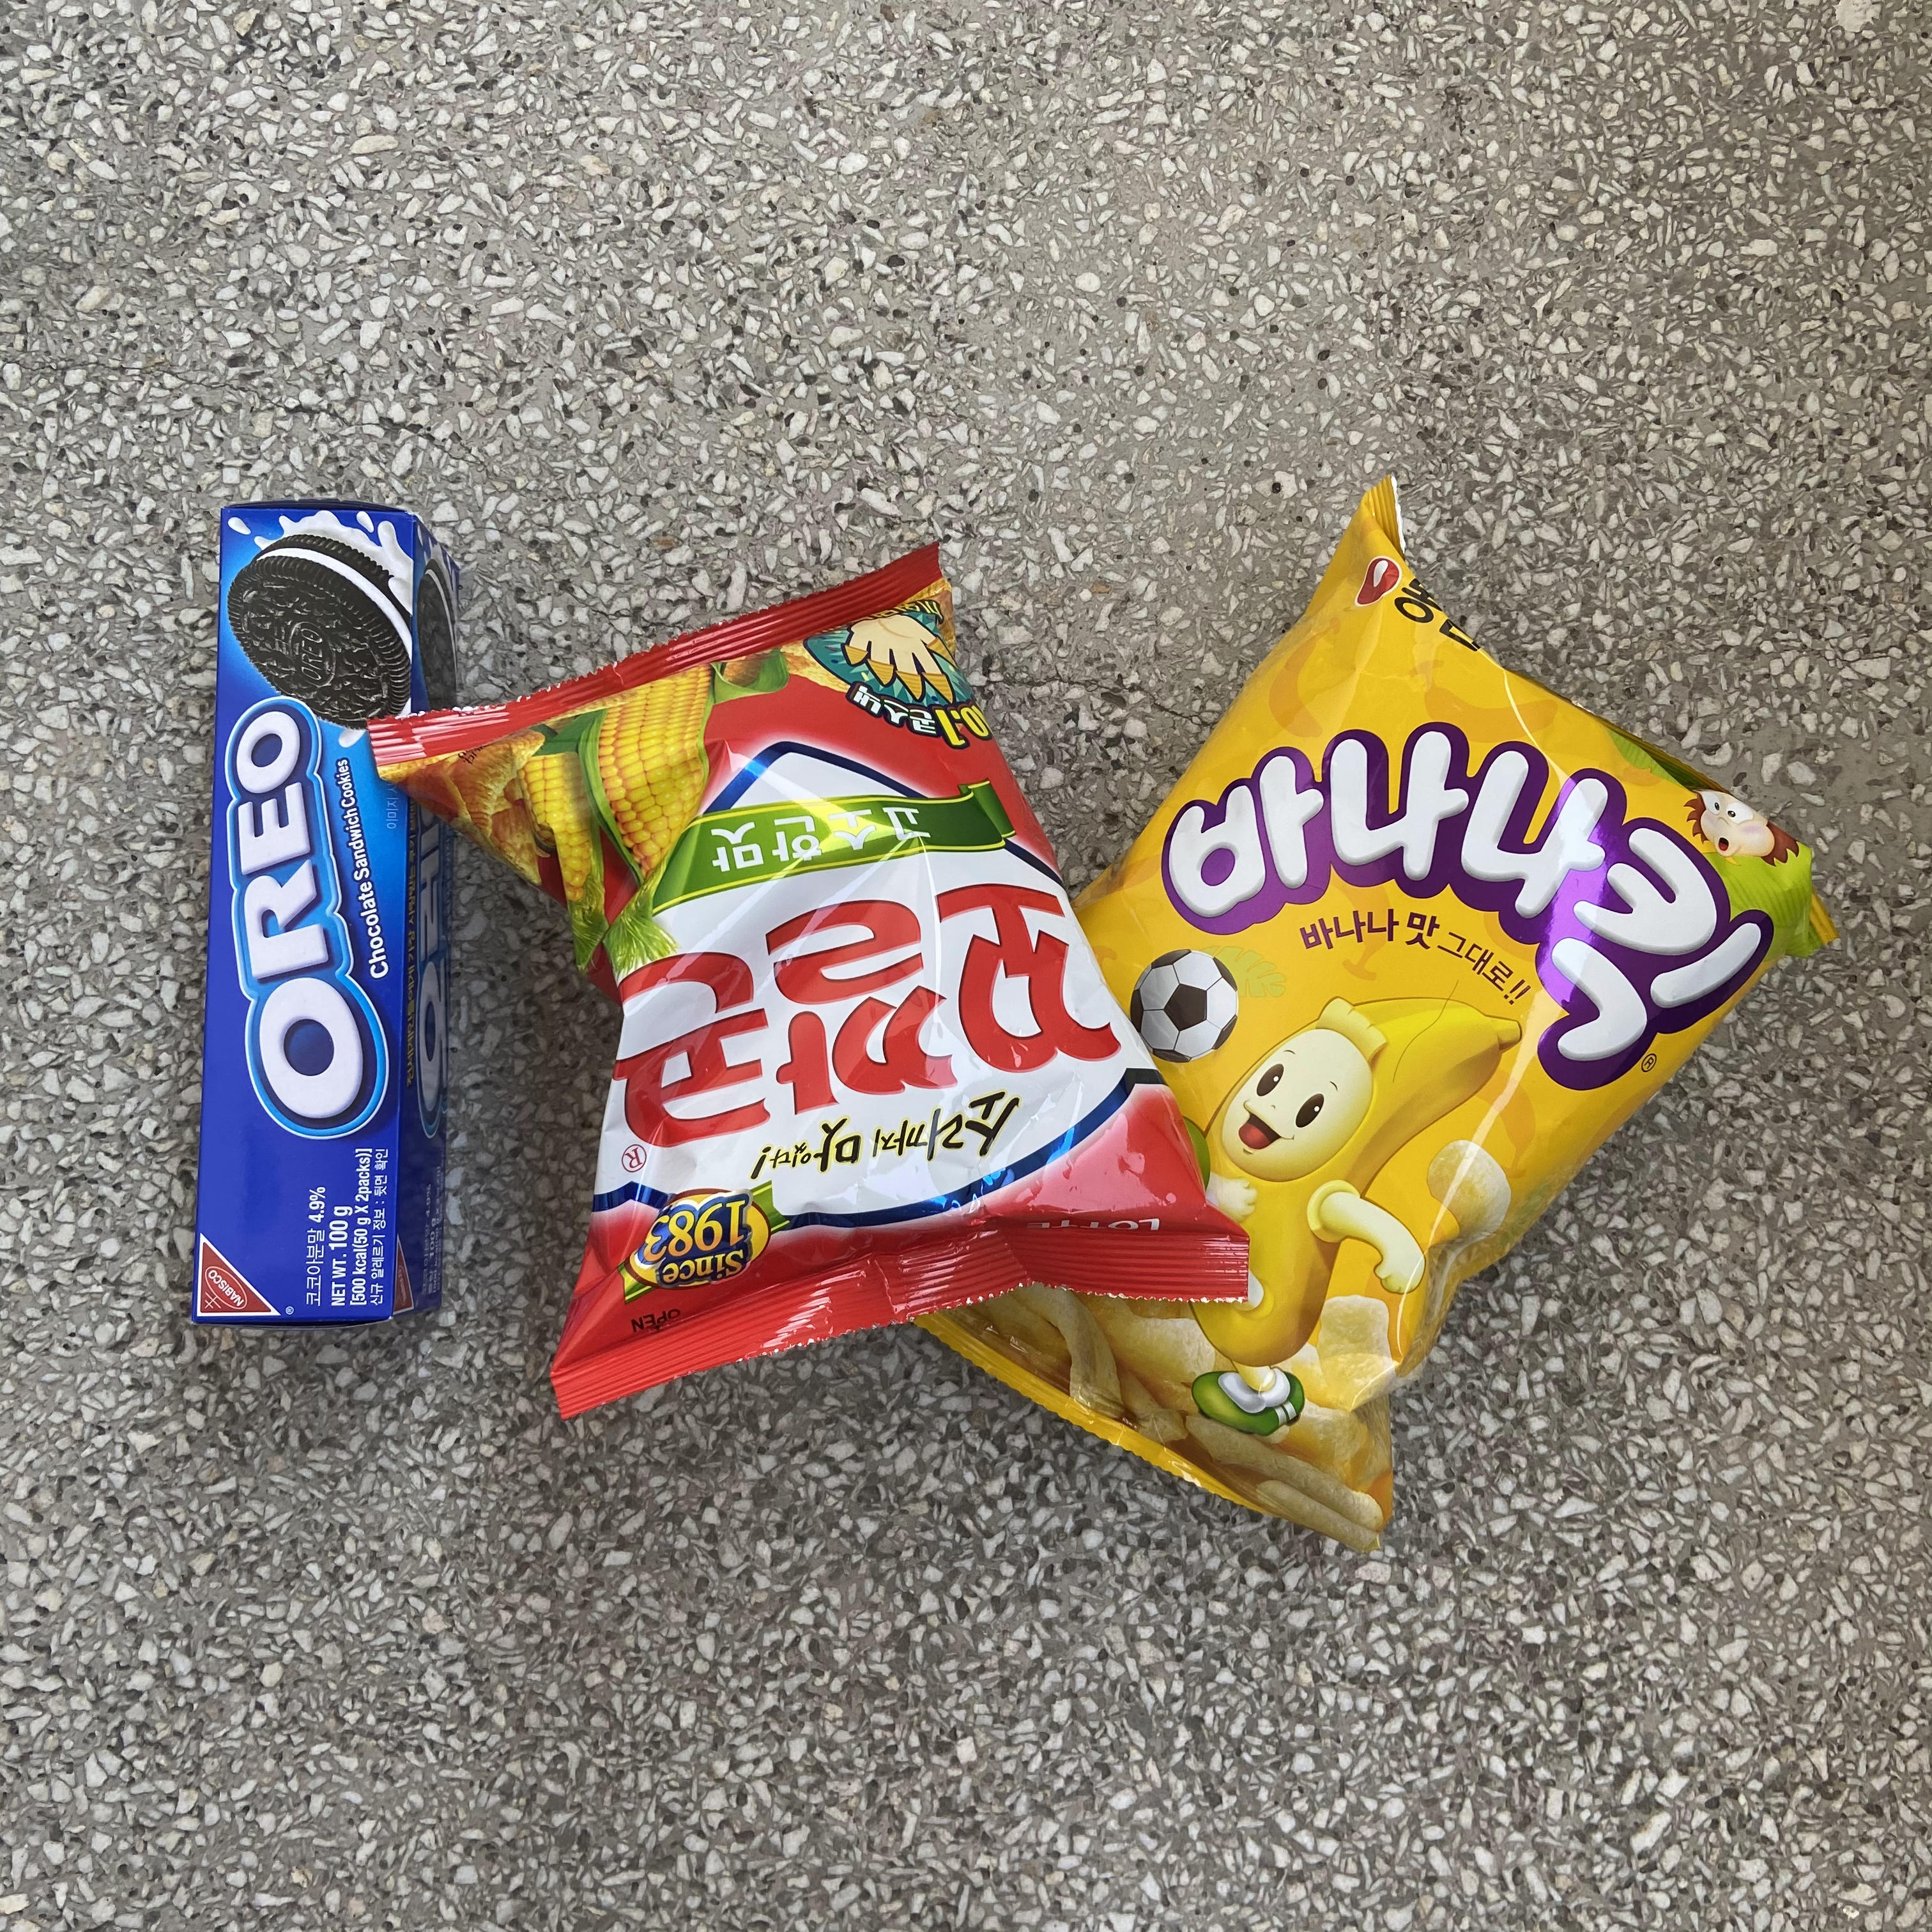banana: (867, 460, 1851, 1587)
ggoggalcon: (350, 534, 1256, 1433)
oreo: (172, 483, 472, 1343)
